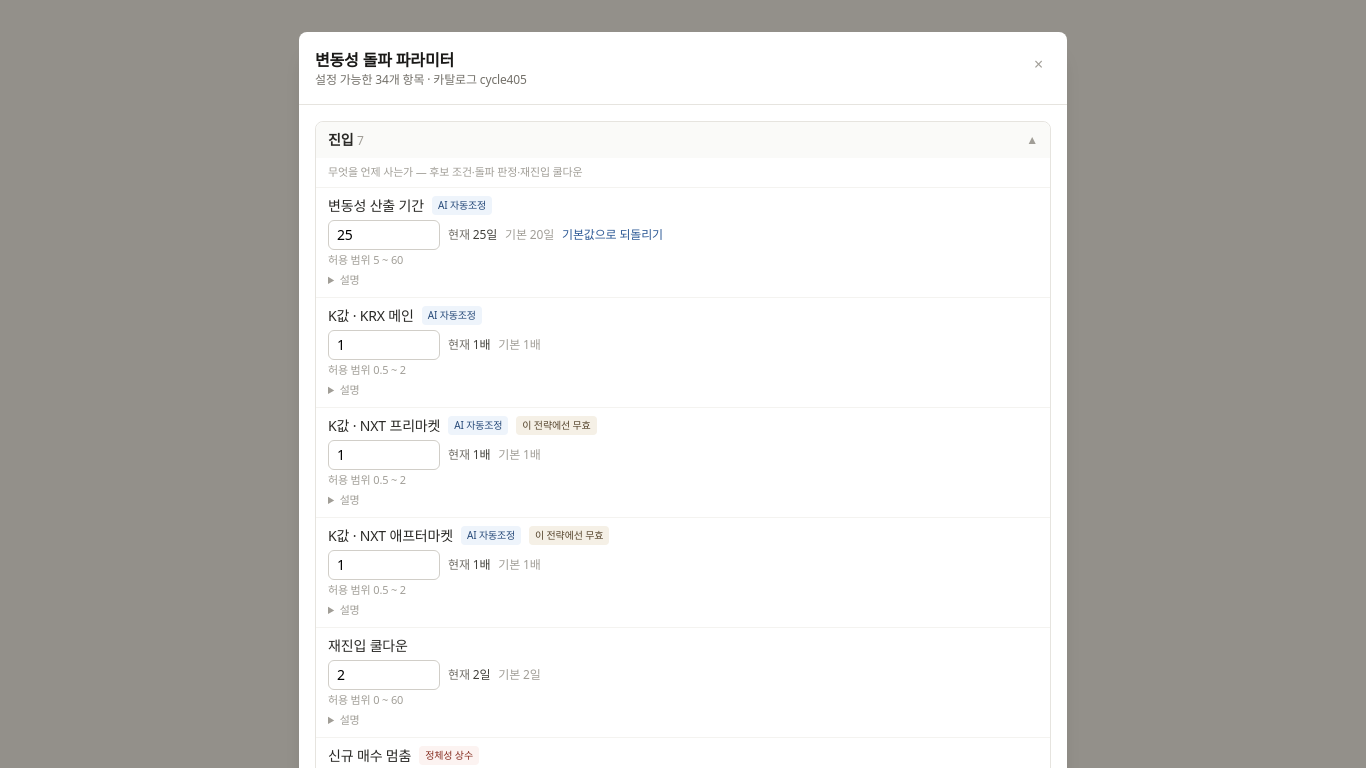
Test: cycle278 F16~F20 — 저장·오류·경고 › F20 저장은 ConfirmModal 을 거치고 취소하면 PUT 이 나가지 않는다
The width and height of the screenshot is (1366, 768).
Step 1. Replace the text in the field with test id "strategy-params-input-k-period" with "30" → [384, 234], box [328,220,440,250]
(page scrolled)
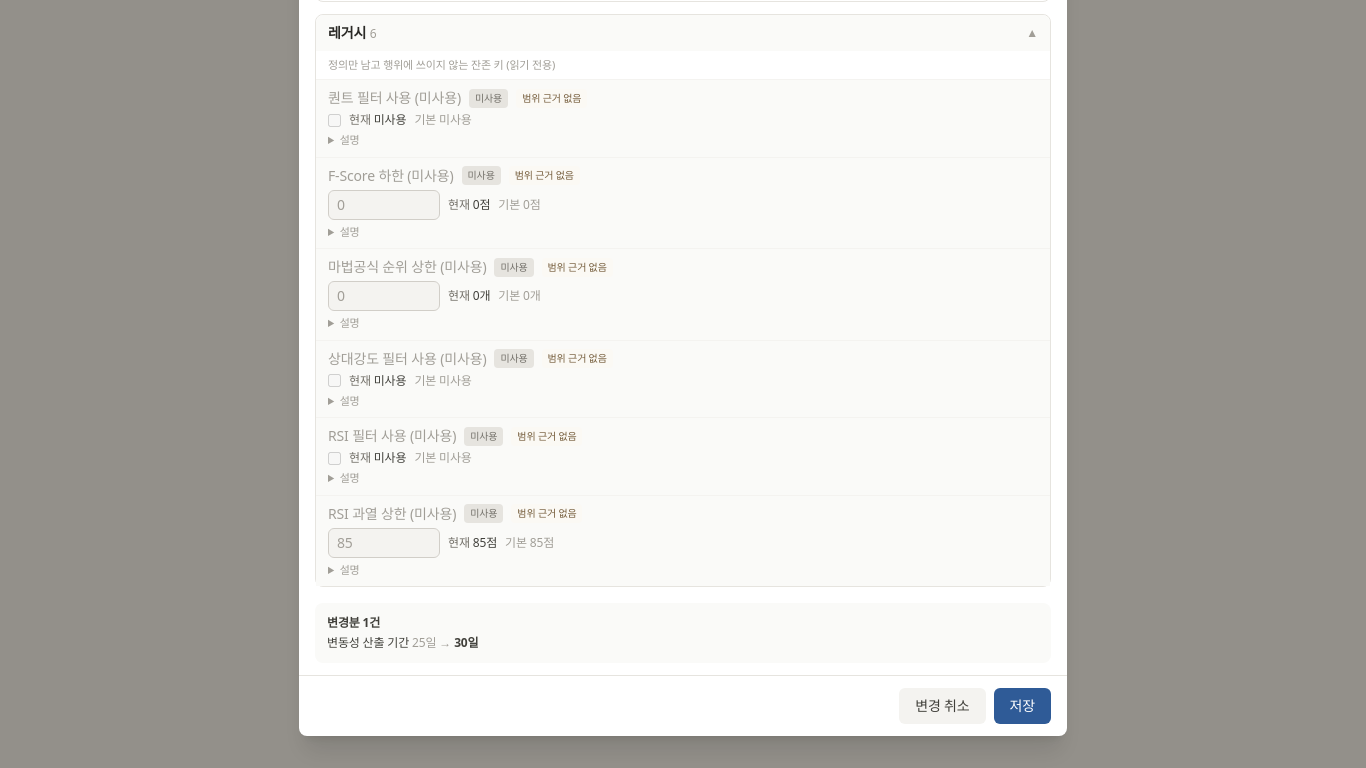
Step 2. Click the button with test id "strategy-params-save" → [1022, 706], box [994,688,1051,724]
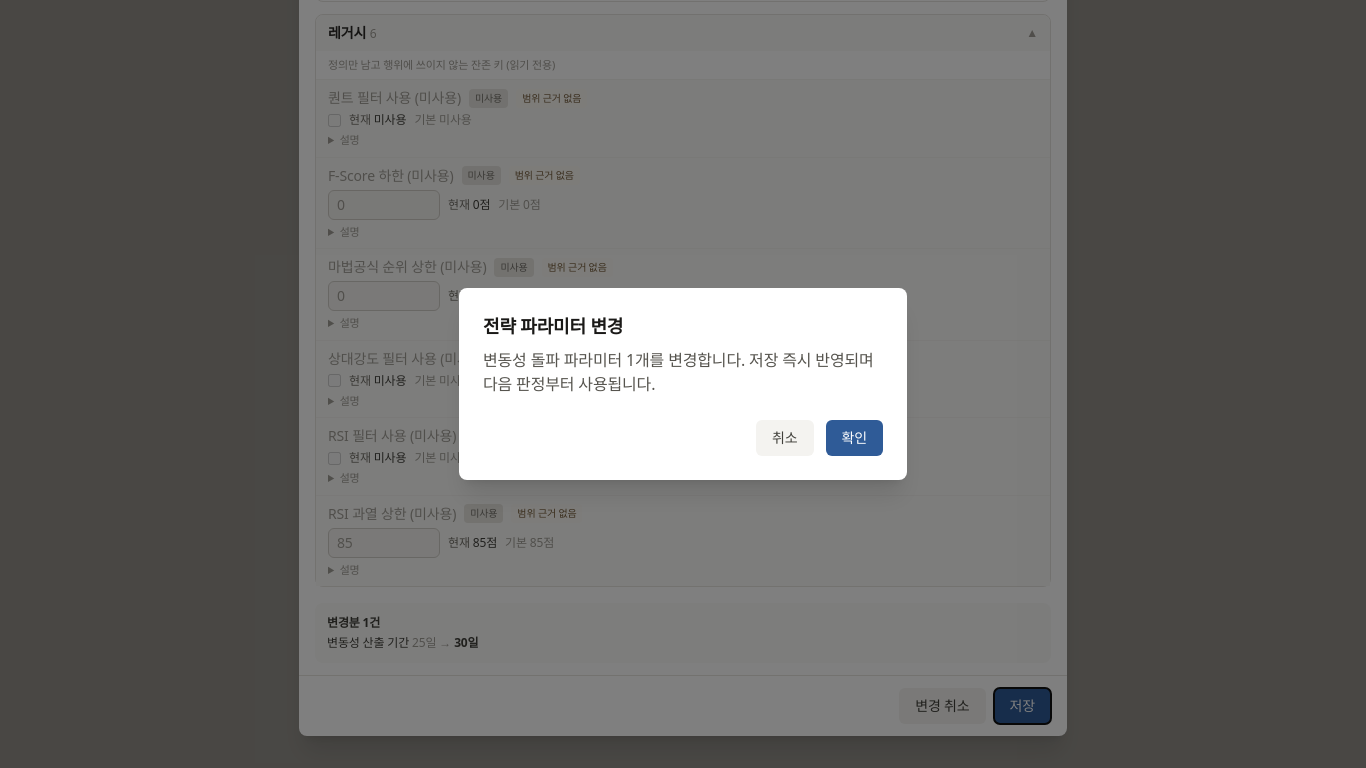
Now the button "확인" is shown, box [826,420,883,456]
Step 3. Click the button "취소" → [785, 438], box [756,420,814,456]
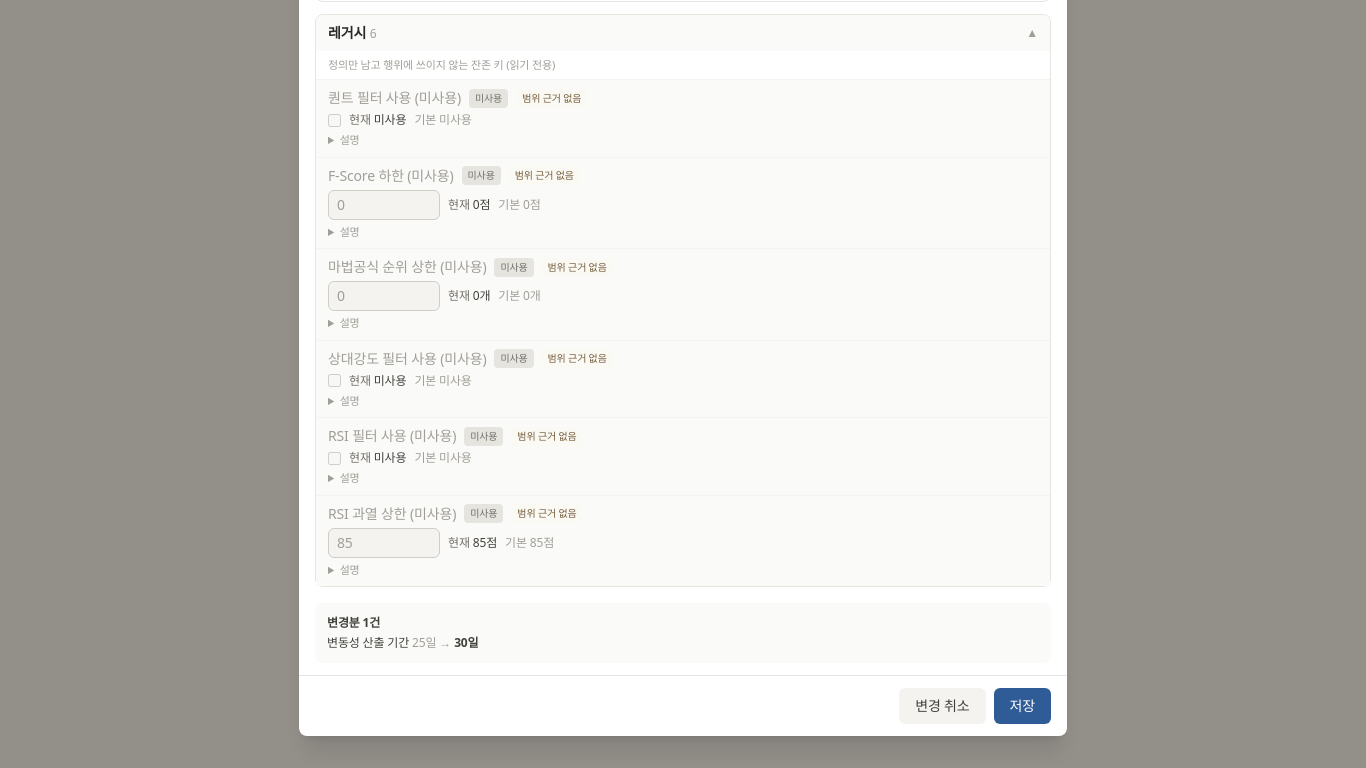
Now the button "확인" is gone
